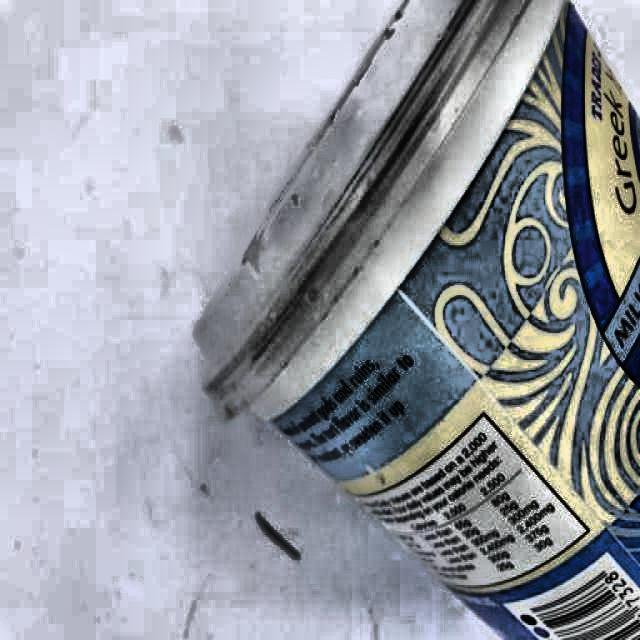plastic: (193, 0, 640, 640)
